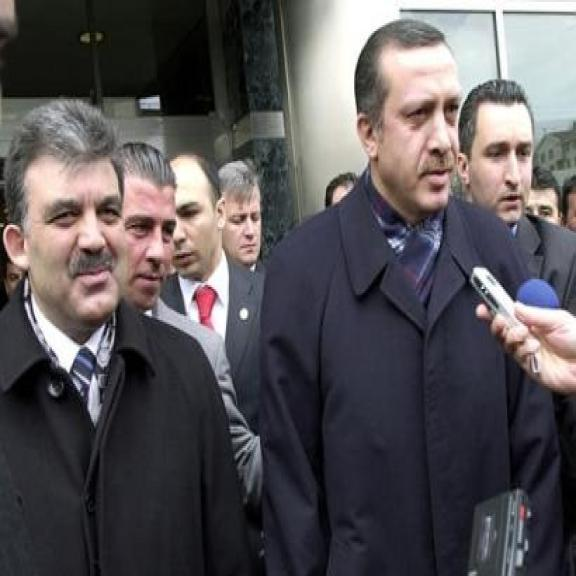face: (2, 157, 127, 338), (358, 52, 462, 220), (459, 106, 534, 230), (125, 168, 175, 319), (165, 160, 222, 282), (221, 186, 266, 274)
